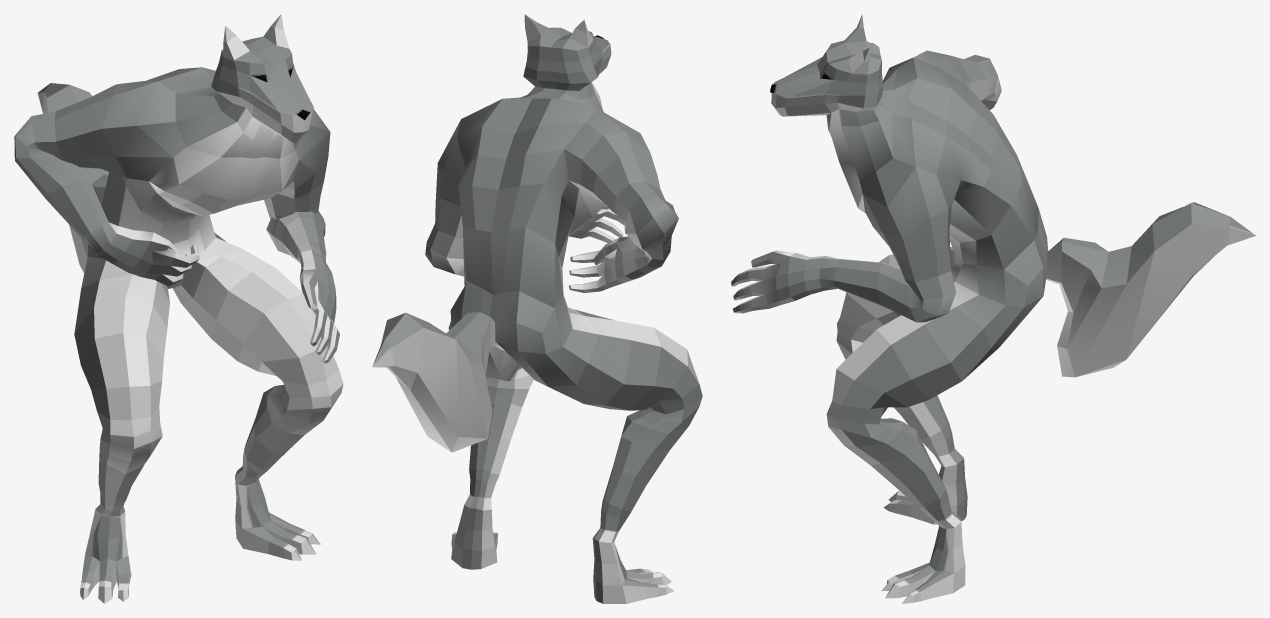
The model's file is WolfIdle_(91).obj.
3 renders of one model, left to right at view 1: azimuth 30°, elevation 25°; view 2: azimuth 150°, elevation 25°; view 3: azimuth 270°, elevation 25°, orthographic. The views are drawn at different scales.
Parts seen in each view (by area): view 1: Box001; view 2: Box001; view 3: Box001.
Part boxes in pixels (x1=…): Box001: x1=14, y1=14, x2=343, y2=603; Box001: x1=372, y1=14, x2=702, y2=603; Box001: x1=731, y1=14, x2=1255, y2=603.
Bounding box in the file's own units: 69.79 × 132 × 117.
